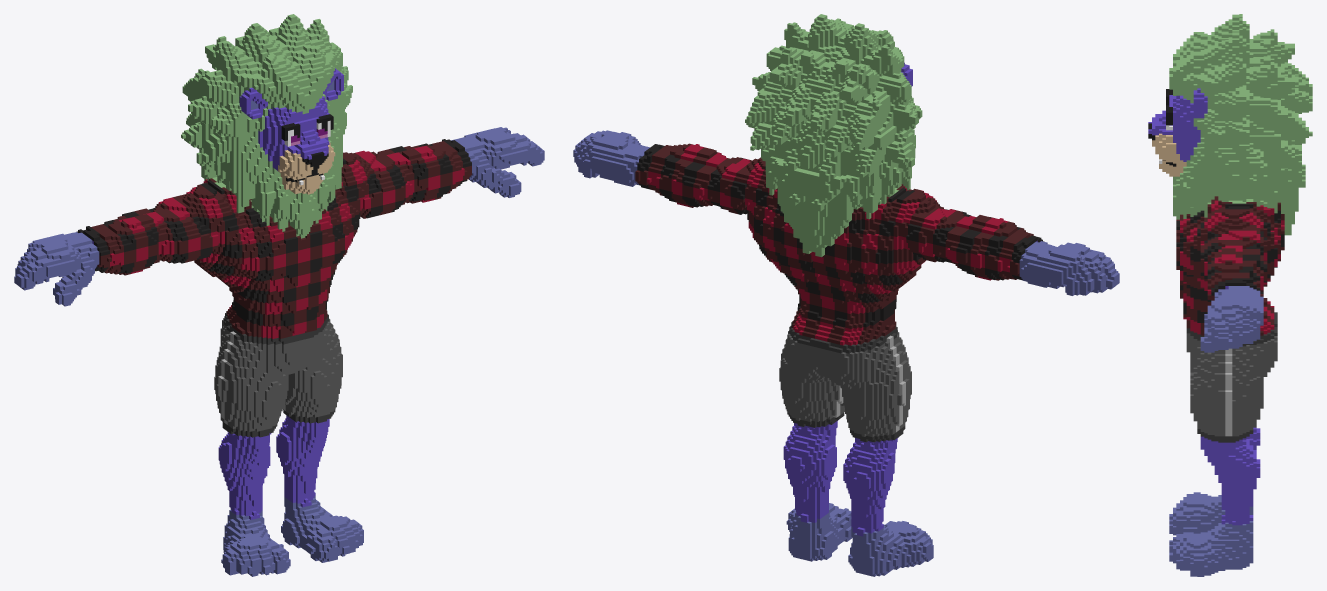
The model's file is 1065-0FI6QuI5.fbx.
3 renders of one model, left to right at view 1: azimuth 30°, elevation 25°; view 2: azimuth 150°, elevation 25°; view 3: azimuth 270°, elevation 25°, orthographic. The views are drawn at different scales.
Visible parts, largest first — view 1: standard; view 2: standard; view 3: standard.
Boxes of the visible parts, x1,y1,x2,y2 form: standard: [14, 14, 544, 576]; standard: [573, 14, 1119, 576]; standard: [1148, 14, 1312, 576].
Bounding box in the file's own units: 17.2 × 16.5 × 4.7.
Materials: 5 (5 with a texture image).
